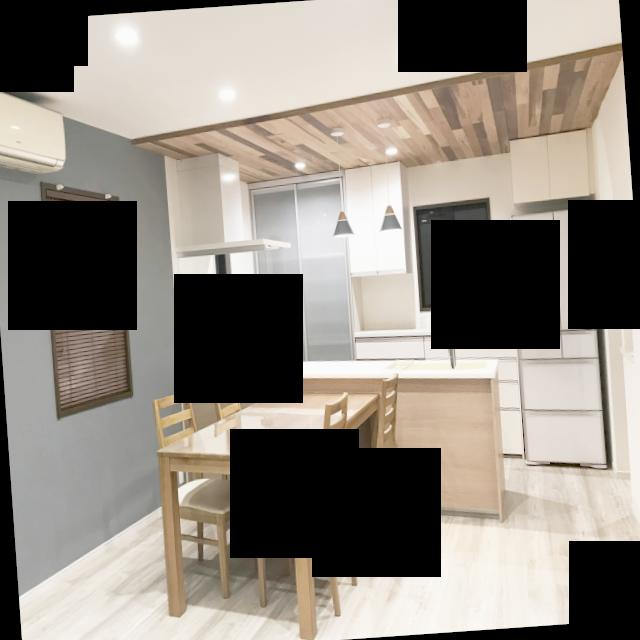natural chair: (244, 389, 365, 616), (344, 365, 417, 555)
natural desk: (150, 382, 396, 622)
